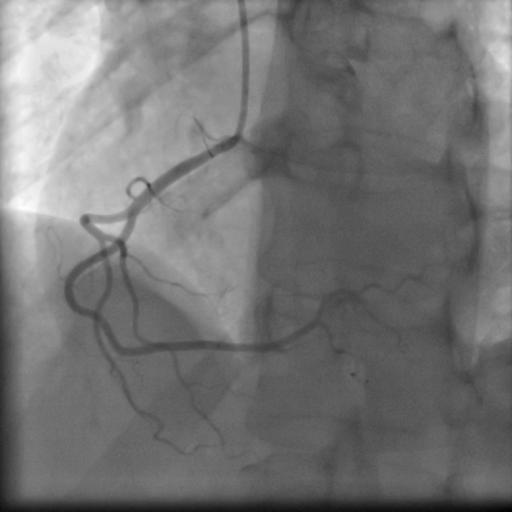Stenosis: (86, 302, 114, 337)
